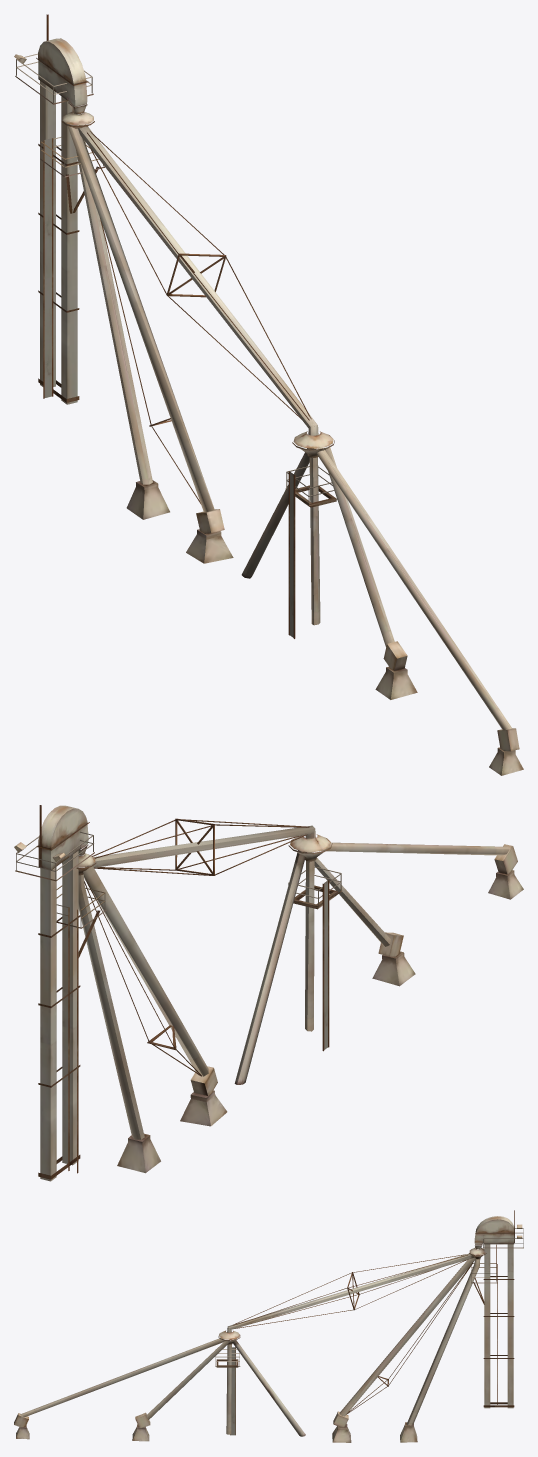
3 views of the same model, one above another, from view 1: azimuth 30°, elevation 25°; view 2: azimuth 150°, elevation 25°; view 3: azimuth 270°, elevation 25° (orthographic). The views are drawn at different scales.
Parts seen in each view (by area): view 1: body0_model0_lod0_mesh0; view 2: body0_model0_lod0_mesh0; view 3: body0_model0_lod0_mesh0.
Boxes of the visible parts, x1,y1,x2,y2 form: body0_model0_lod0_mesh0: (14,14,523,775); body0_model0_lod0_mesh0: (14,805,523,1181); body0_model0_lod0_mesh0: (14,1210,523,1442).
Bounding box in the file's own units: 129 × 1056 × 2125.
1 material, 1 textured.
